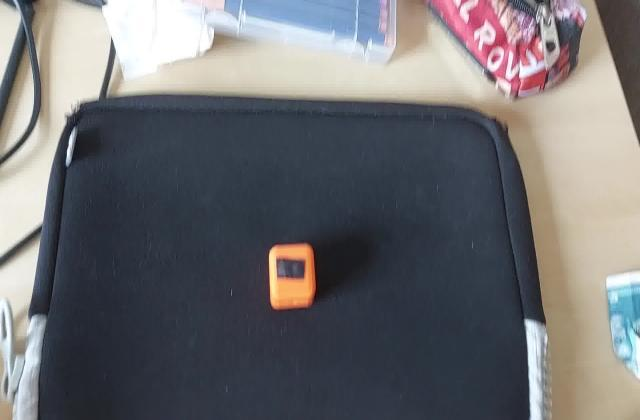black: (273, 256, 309, 283)
sticker: (267, 243, 319, 314)
